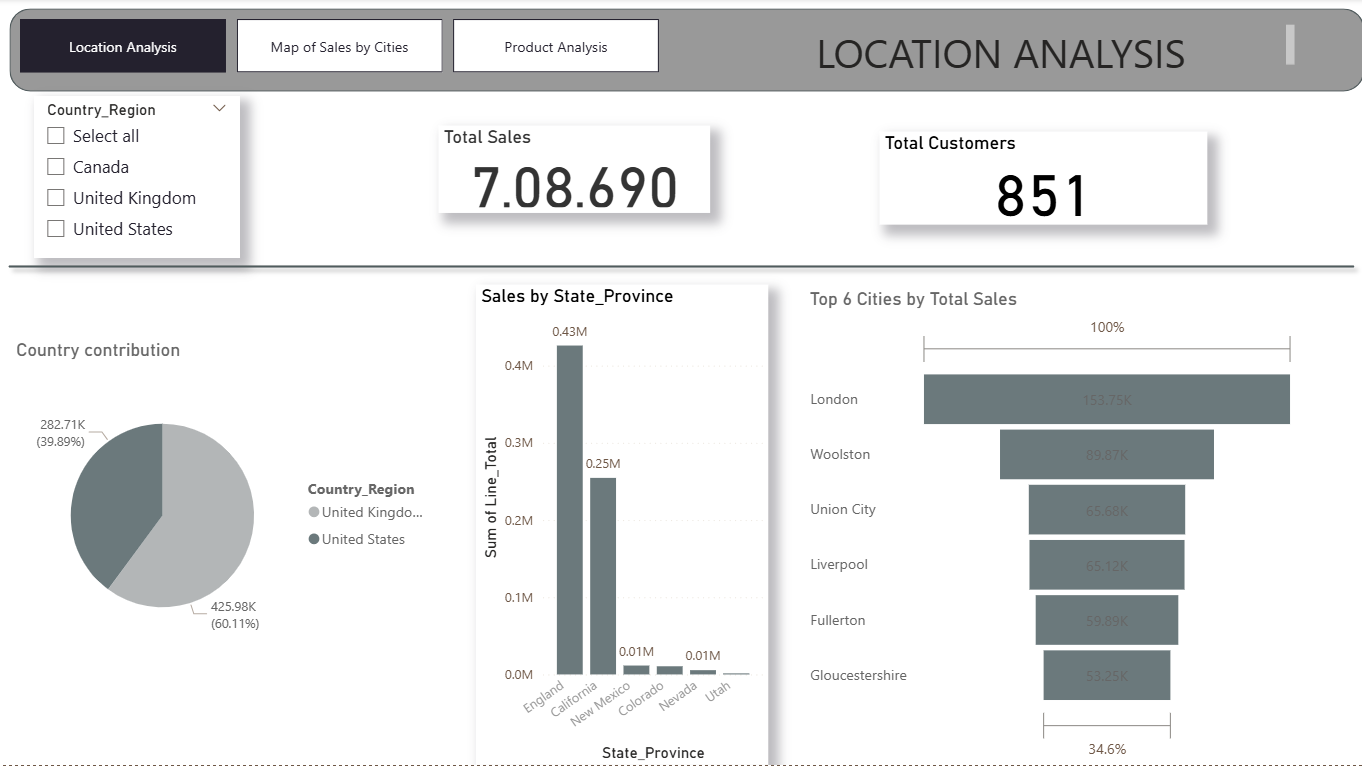

The dashboard page shown, as its layout file describes it:
{"tool":"powerbi","page":{"name":"Location Analysis","canvas":[1280,720],"ordinal":0},"visuals":[{"type":"shape","box":[10.1,10.1,1270.1,77.8],"z":0},{"type":"clusteredColumnChart","title":"Sales by State_Province","fields":{"Category":["address.State_Province"],"Y":["Sum(SalesOrderDetail.Line_Total)"]},"box":[446.7,268,274.1,451.2],"z":1000},{"type":"funnel","title":"Top 6 Cities by Total Sales","fields":{"Category":["address.City"],"Y":["Sum(SalesOrderDetail.Line_Total)"]},"box":[755.6,271,464.9,448.2],"z":2000},{"type":"card","title":"Total Sales","fields":{"Values":["Sum(SalesOrderDetail.Line_Total)"]},"box":[411.9,119.6,254.4,81.8],"z":3000},{"type":"slicer","fields":{"Values":["address.Country_Region"]},"box":[32.7,91.9,193.2,152.7],"z":4000},{"type":"pieChart","title":"Country contribution","fields":{"Category":["address.Country_Region"],"Y":["Sum(SalesOrderDetail.Line_Total)"]},"box":[10.6,319.5,401.3,311.9],"z":5000},{"type":"card","title":"Total Customers","fields":{"Values":["CountNonNull(Customer.Customer_ID)"]},"box":[826,124.7,307,87.3],"z":6000},{"type":"shape","box":[0,212,1279.5,78.7],"z":7000},{"type":"textbox","box":[666.7,20.2,553,53.3],"z":8000},{"type":"pageNavigator","box":[20.2,20.2,600.5,50.4],"z":9000}]}

Visuals, with their boxes in screenshot pixels (x1, y1, x2, y2), scaled from the page's 1280x720 canvas onto the 1362x766 screenshot:
shape: bbox=[11, 11, 1361, 94]
"Sales by State_Province" clusteredColumnChart: bbox=[475, 285, 767, 765]
"Top 6 Cities by Total Sales" funnel: bbox=[804, 288, 1299, 765]
"Total Sales" card: bbox=[438, 127, 709, 214]
slicer - address.Country_Region: bbox=[35, 98, 240, 260]
"Country contribution" pieChart: bbox=[11, 340, 438, 672]
"Total Customers" card: bbox=[879, 133, 1206, 226]
shape: bbox=[0, 226, 1361, 309]
textbox: bbox=[709, 21, 1298, 78]
pageNavigator: bbox=[21, 21, 660, 75]
